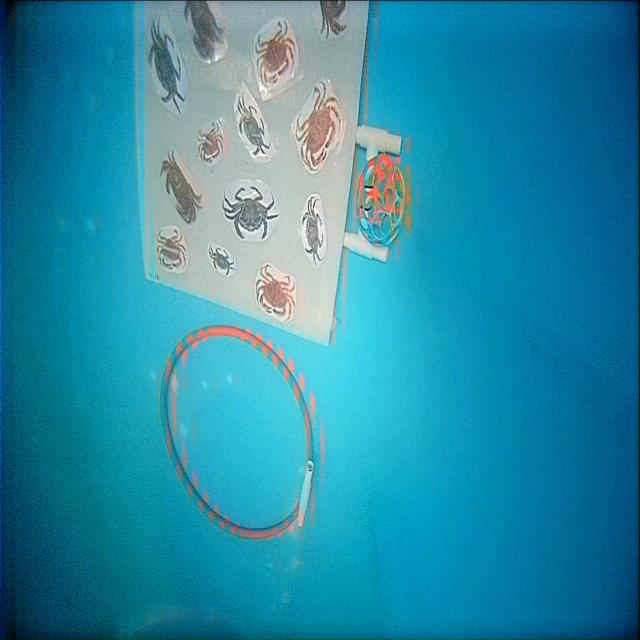GreenCrab: (149, 20, 185, 113), (223, 187, 278, 239), (302, 196, 323, 265), (209, 247, 234, 276)
